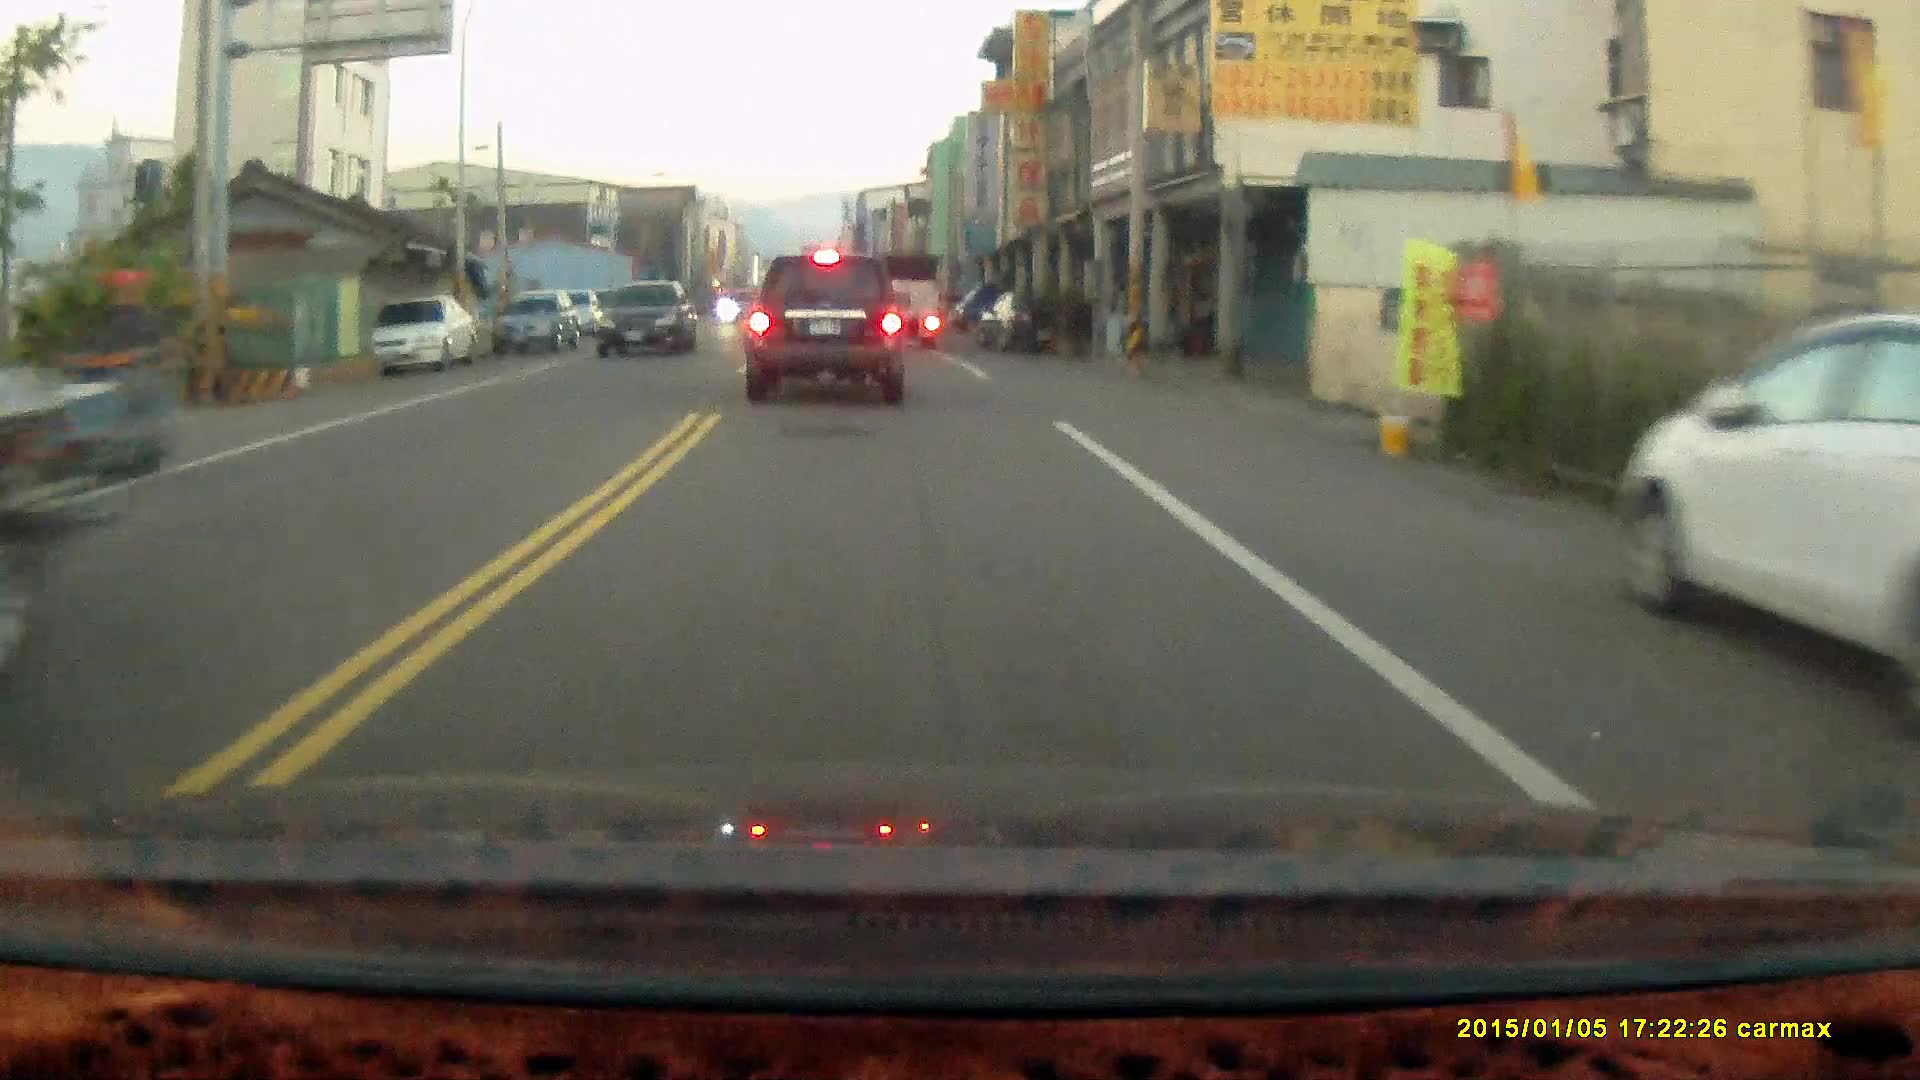rider: (28, 266, 178, 490)
vehicle: (1612, 314, 1920, 703), (745, 257, 909, 413), (366, 297, 477, 373), (863, 254, 943, 354), (600, 282, 698, 359), (493, 290, 582, 359)
